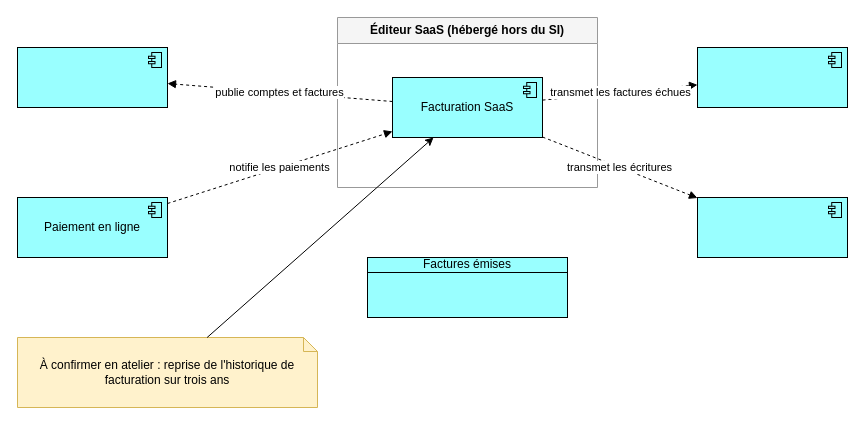
The diagram is 865 pixels wide and 425 high, and some of its shapes have lost their labels. Each missing label, with the centre of its shape:
"FINEO" goes at point 772,227.
"Mon Espace Eau" goes at point 92,77.
"RECOUVR" goes at point 772,77.
